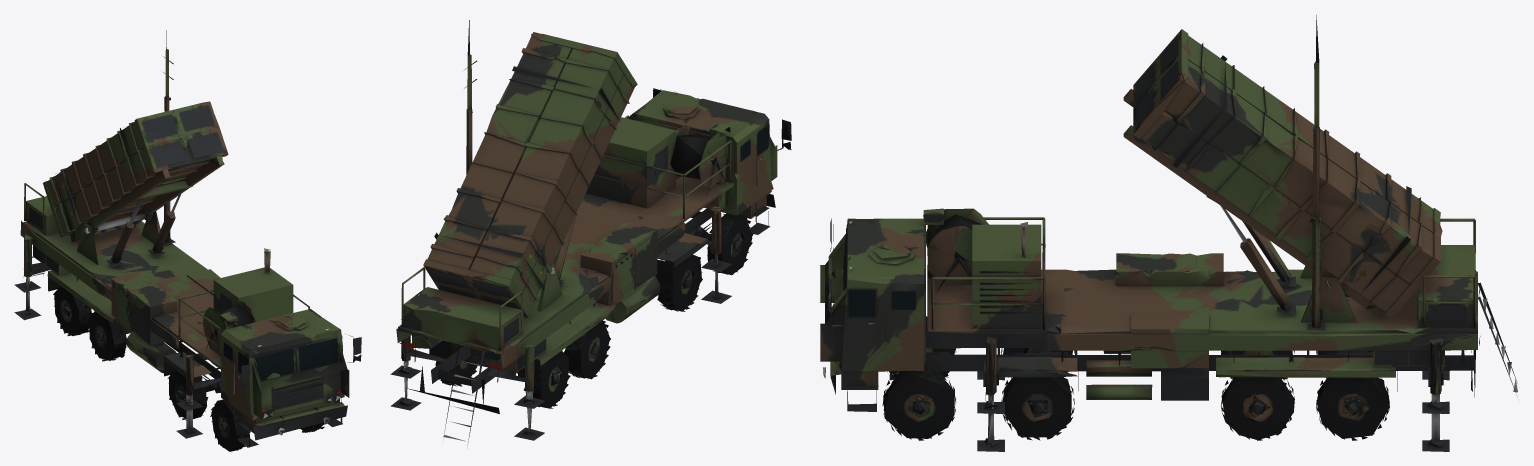
Rendered from veh_patriot.glb.
3 renders of one model, left to right at view 1: azimuth 30°, elevation 25°; view 2: azimuth 150°, elevation 25°; view 3: azimuth 270°, elevation 25°, orthographic. The views are drawn at different scales.
Parts seen in each view (by area): view 1: veh_patriot; view 2: veh_patriot; view 3: veh_patriot.
Boxes of the visible parts, x1,y1,x2,y2 form: veh_patriot: [14, 30, 361, 451]; veh_patriot: [390, 20, 791, 445]; veh_patriot: [820, 15, 1517, 451].
Bounding box in the file's own units: 3.3 × 7.84 × 11.7.
1 material, 1 textured.
